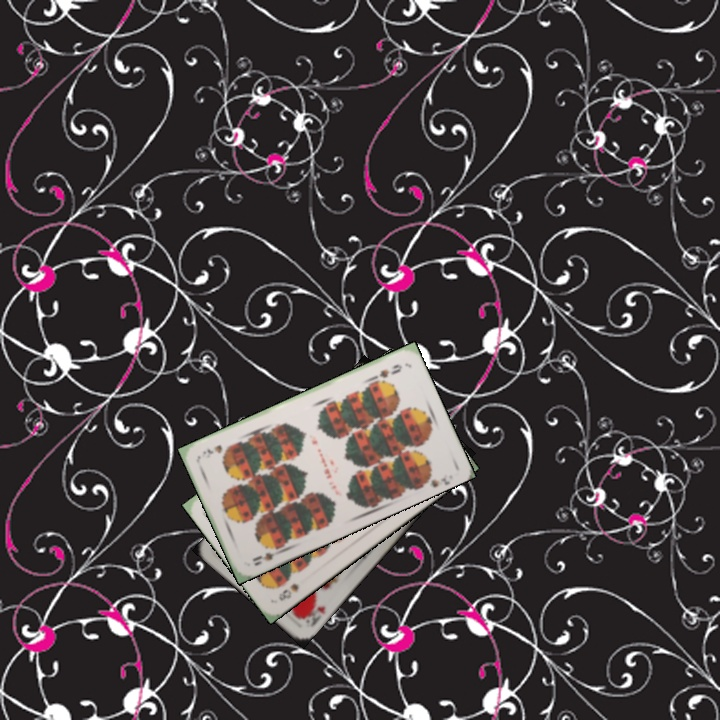HK: (298, 599, 328, 630)
S8: (274, 579, 301, 604)
S9: (248, 541, 285, 568), (368, 360, 404, 384)
